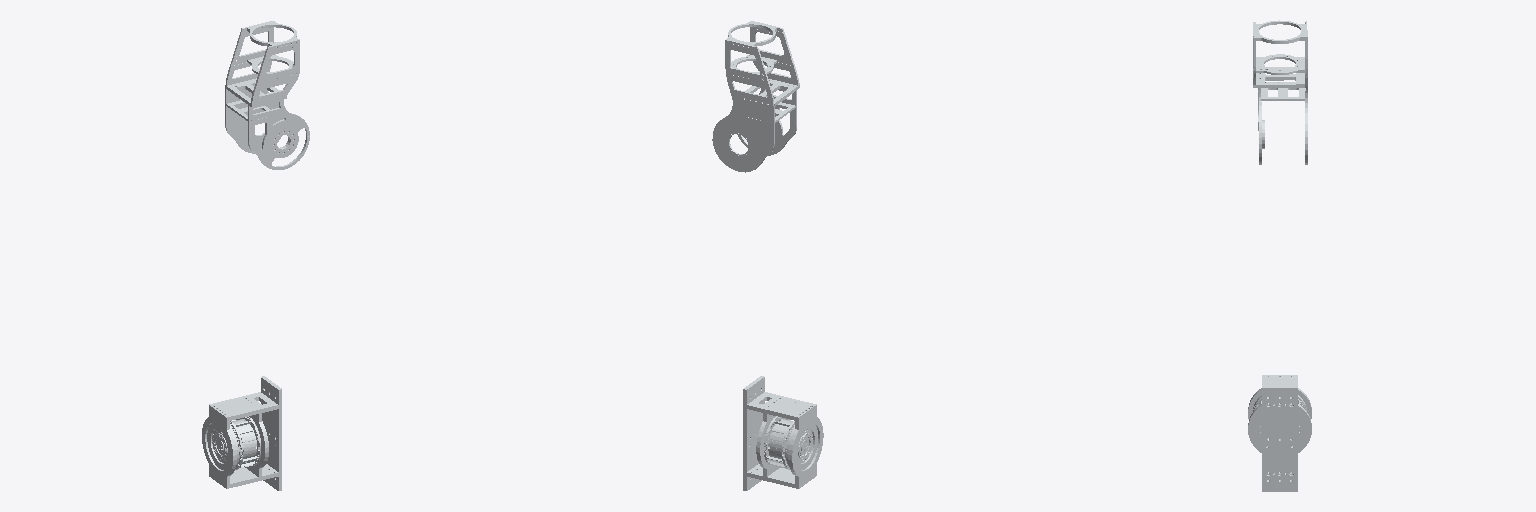
URDF robot description (lab_3dof):
<?xml version="1.0" encoding="utf-8"?>

<robot name="lab_3dof">
  <link name="world">
  </link>
  
  <joint name="world_joint" type="fixed">
    <origin rpy="-1.57079632679 0 1.57079632679" xyz="0 0 0"/>
    <parent link="world"/>
    <child link="base_link"/>
  </joint>


  <link name="base_link">
    <inertial>
      <origin
        xyz="-0.000347374556858653 0.000101207333103757 0.0782524999724863"
        rpy="0 0 0" />
      <mass value="2.98839561693589" />
      <inertia
        ixx="0.00324149543224931"
        ixy="-4.07123251803895E-09"
        ixz="4.73978893588437E-08"
        iyy="0.00585723413730456"
        iyz="-3.99503167878619E-07"
        izz="0.00739428664676083" />
    </inertial>
    <visual>   
      <origin
        xyz="0 0 0"
        rpy="0 0 0" />
      <geometry>
        <mesh filename="../meshes/base_link.STL" />
      </geometry>
      <material name="">
        <color rgba="0.898039215686275 0.917647058823529 0.929411764705882 1" />
      </material>
    </visual>
    <collision>
      <origin rpy="0 0 0" xyz="0 0 0"/>
      <geometry>
        <mesh filename="../meshes/base_link.obj"/>
      </geometry>
    </collision>     
  </link>

  <joint name="joint_1" type="revolute">
    <origin
      xyz="0 -0.136 0"
      rpy="1.5708 0 0" />
    <parent link="base_link" />
    <child link="link_1" />
    <axis xyz="0 0 1" />
  </joint>

  <link name="link_1">
    <inertial>
      <origin
        xyz="-0.00172366119668646 -2.55495447260452E-05 0.133968827840848"
        rpy="0 0 0" />
      <mass value="3.30744593008765" />
      <inertia
        ixx="0.00878765650292233"
        ixy="1.80427804879653E-06"
        ixz="2.13548495365278E-06"
        iyy="0.00572714704438864"
        iyz="-1.85409063938055E-06"
        izz="0.00424667264191884" />
    </inertial>
    <visual>  
      <origin
        xyz="0 0 0"
        rpy="0 0 0" />
      <geometry>
        <mesh filename="../meshes/link_1.STL" />
      </geometry>
      <material name="">
        <color rgba="0.898039215686275 0.917647058823529 0.929411764705882 1" />
      </material>
    </visual>
    <collision>
      <origin rpy="0 0 0" xyz="0 0 0"/>
      <geometry>
        <mesh filename="../meshes/link_1.obj"/>
      </geometry>
    </collision>      
  </link>
  
  <joint name="joint_2" type="revolute">
    <origin
      xyz="0 0 0.149"
      rpy="0 0 0" />
    <parent link="link_1" />
    <child link="link_2" />
    <axis xyz="1 0 0" />
  </joint>

  <link name="link_2">
    <inertial>
      <origin
        xyz="0.00626355053015673 0.0195692760743029 0.281532477415334"
        rpy="0 0 0" />
      <mass value="3.97301905127661" />
      <inertia
        ixx="0.0206571545145336"
        ixy="5.34178175255945E-07"
        ixz="3.18137551591275E-05"
        iyy="0.0170287884707626"
        iyz="0.00114099862594573"
        izz="0.00524723480624551" />
    </inertial>
    <visual>    
      <origin
        xyz="0 0 0"
        rpy="0 0 0" />
      <geometry>
        <mesh filename="../meshes/link_2.STL" />
      </geometry>
      <material name="">
        <color rgba="0.898039215686275 0.917647058823529 0.929411764705882 1" />
      </material>
    </visual>
    <collision>
      <origin rpy="0 0 0" xyz="0 0 0"/>
      <geometry>
        <mesh filename="../meshes/link_2.obj"/>
      </geometry>
    </collision>    
  </link>
  
  <joint name="joint_3" type="revolute">
    <origin
      xyz="0 0 0.45"
      rpy="0 0 0" />
    <parent link="link_2" />
    <child link="link_3" />
    <axis xyz="0.99997 0.0077715 0" />
  </joint>

  <link name="link_3">
    <inertial>
      <origin
        xyz="0.00340514153817608 0.022060386262522 0.091749494288482"
        rpy="0 0 0" />
      <mass value="1.08738146837964" />
      <inertia
        ixx="0.00461209800248674"
        ixy="1.19328883575937E-05"
        ixz="6.53945986716685E-06"
        iyy="0.00365409026116253"
        iyz="-0.000226932068353511"
        izz="0.00178925670898513" />
    </inertial>
    <visual>   
      <origin
        xyz="0 0 0"
        rpy="0 0 0" />
      <geometry>
        <mesh filename="../meshes/link_3.STL" />
      </geometry>
      <material name="">
        <color rgba="0.898039215686275 0.917647058823529 0.929411764705882 1" />
      </material>
    </visual>
    <collision>
      <origin rpy="0 0 0" xyz="0 0 0"/>
      <geometry>
        <mesh filename="../meshes/link_3.obj"/>
      </geometry>
    </collision>     
  </link>
  

  
  <joint name="joint_ee" type="fixed">
    <parent link="link_3"/>
    <child link="link_ee"/>
    <origin rpy="3.14159265359 3.14159265359 3.14159265359" xyz="0 0 0.249"/>
    <axis xyz="0 0 1"/>
  </joint>

  <link name="link_ee">
      <inertial>
      <origin rpy="0 0 0" xyz="0 0 0"/>
      <mass value="0"/>
      <inertia ixx="0.0" ixy="0.0" ixz="0.0" iyy="0.0" iyz="0.0" izz="0.0"/>
    </inertial>  
  </link>
  
</robot>

--- Render facts (derived) ---
3 views of the same robot in one strip: view 1: azimuth 30°, elevation 25°; view 2: azimuth 150°, elevation 25°; view 3: azimuth 270°, elevation 25° (orthographic).
Robot: lab_3dof — 6 links, 5 joints (3 revolute, 2 fixed); root link world; default pose: all joints at 0.
Visible links, largest first — view 1: link_3, base_link; view 2: link_3, base_link; view 3: base_link, link_3.
Link boxes in pixels (x1,y1,x2,y2): link_3: [225, 21, 309, 169]; base_link: [202, 376, 281, 490]; link_3: [712, 21, 799, 172]; base_link: [743, 376, 823, 490]; base_link: [1248, 375, 1311, 491]; link_3: [1253, 20, 1307, 164].
Bounding box of the posed robot: 0.2118 × 0.1395 × 1.11 m (x, y, z).
2 mesh visuals loaded from 4 distinct referenced files (2 binary STL); not drawn: 2 (reference not matched to a file when rendering).